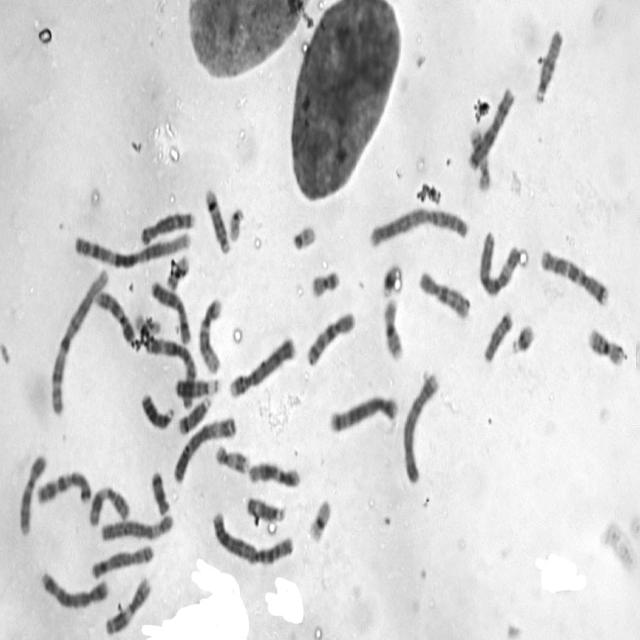A1: (46, 260, 110, 417), (69, 224, 194, 270)
A2: (209, 506, 297, 568), (366, 200, 470, 249)
A3: (171, 410, 239, 485), (140, 330, 198, 409)
B4: (399, 366, 441, 486), (225, 331, 298, 400)
B5: (38, 564, 111, 611), (326, 389, 400, 435)
C10: (304, 305, 358, 368), (416, 263, 472, 321)
C11: (101, 571, 153, 637), (86, 480, 132, 528)
C12: (196, 292, 224, 376), (245, 456, 302, 490)
C6: (477, 225, 522, 299), (96, 507, 176, 544)
C7: (538, 242, 612, 308), (34, 464, 94, 507)
C8: (87, 539, 156, 579), (137, 204, 197, 246)
C9: (16, 448, 48, 537), (92, 285, 136, 344)
D13: (138, 386, 175, 431), (171, 371, 223, 401)
D14: (202, 182, 233, 255), (175, 390, 214, 437)
D15: (531, 23, 565, 106), (243, 491, 288, 524)
E16: (585, 321, 627, 367), (380, 292, 406, 362)
E17: (466, 121, 492, 195), (212, 439, 251, 477)
E18: (480, 305, 515, 364), (147, 464, 172, 517)
F19: (305, 493, 333, 544), (131, 308, 163, 336)
F20: (308, 263, 342, 299), (165, 253, 191, 292)
G21: (508, 317, 536, 356), (378, 257, 403, 300)
G22: (289, 219, 318, 252), (226, 201, 246, 243)
X: (464, 80, 516, 172), (148, 274, 193, 345)
